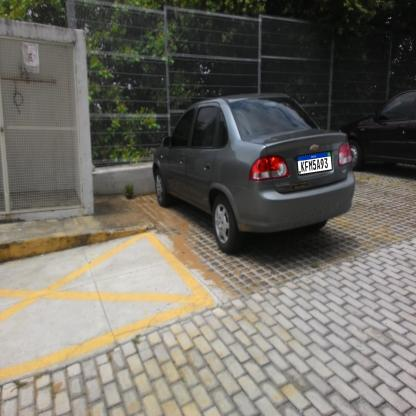PlacaM: (297, 150, 332, 176)
